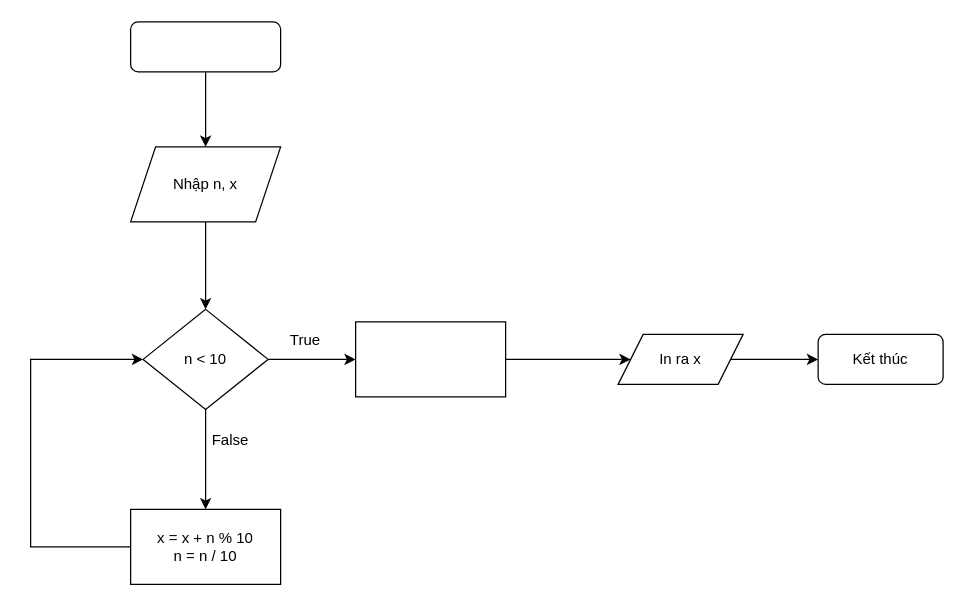
Image size: 965x606. Some labels were removed from this diagram. Here are the shapes that lost their labels. From the top down, the centre of each, then its label:
(205,46): Bắt đầu
(430,359): x = x + n
